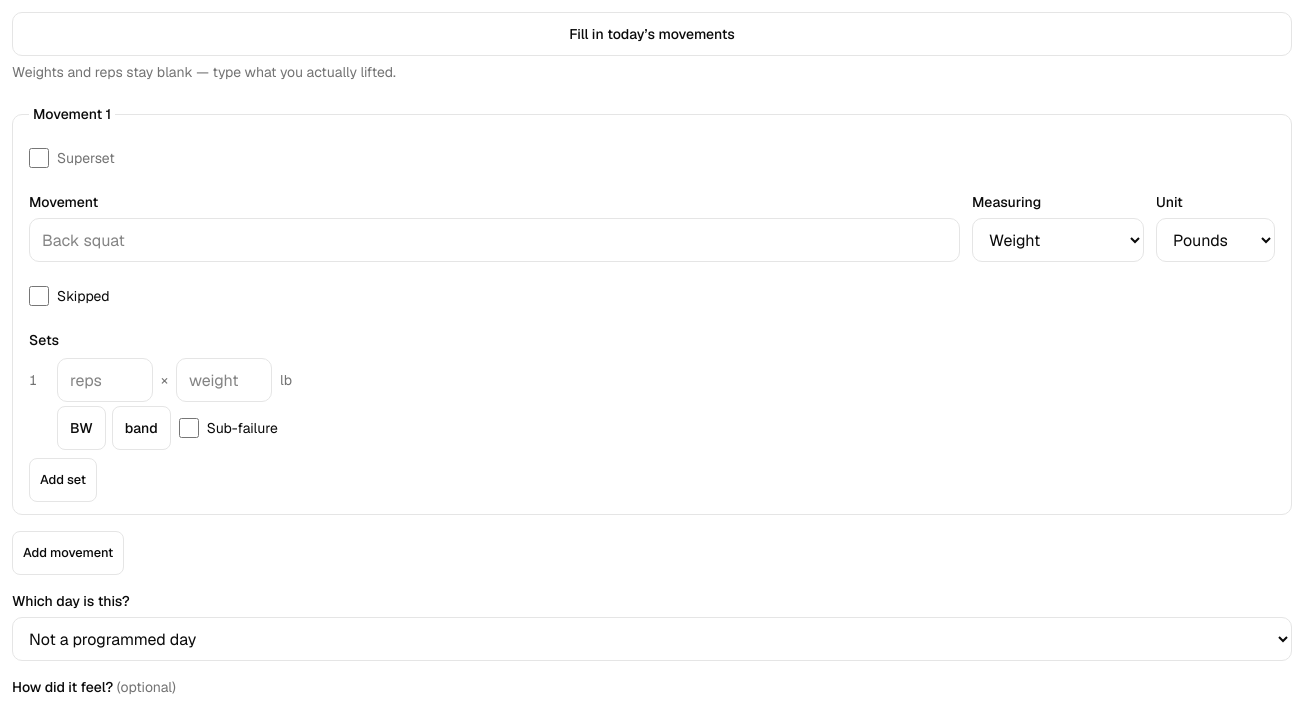
Test case: StrengthForm — program scaffold (V1-19) › builds a card per prescription — first open, the rest collapsed, all fields blank
Click the button "Fill in today’s movements".
click(652, 34)  # box [12,12,1292,56]
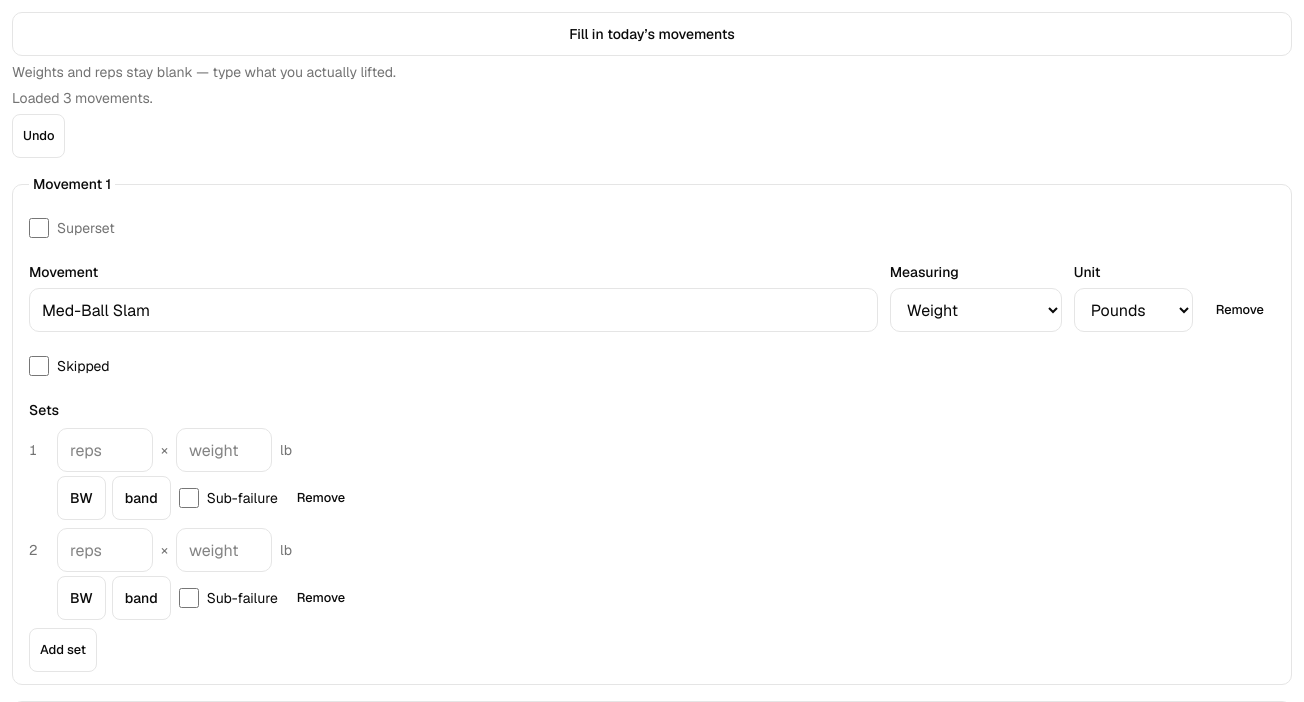
Expected: the 1st number field with placeholder "reps" is empty, [57,428,153,472]
Now the field showing "Med-Ball Slam" is shown, box [29,288,878,332]
